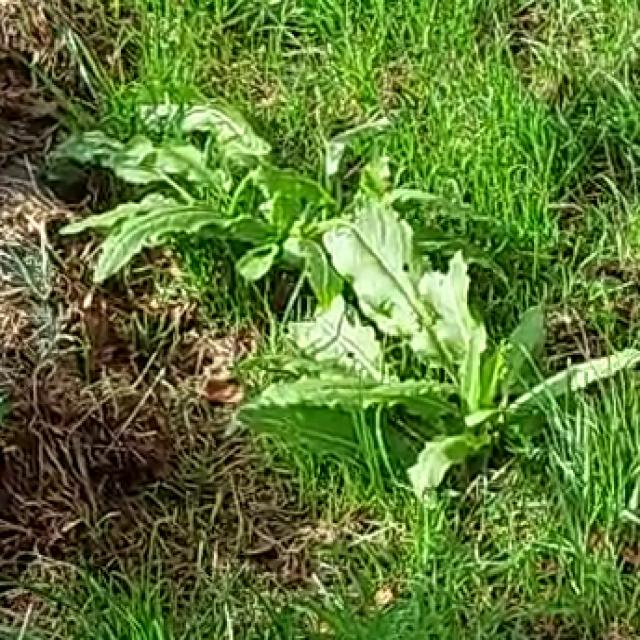organic waste: (0, 27, 452, 350), (225, 195, 616, 521)
